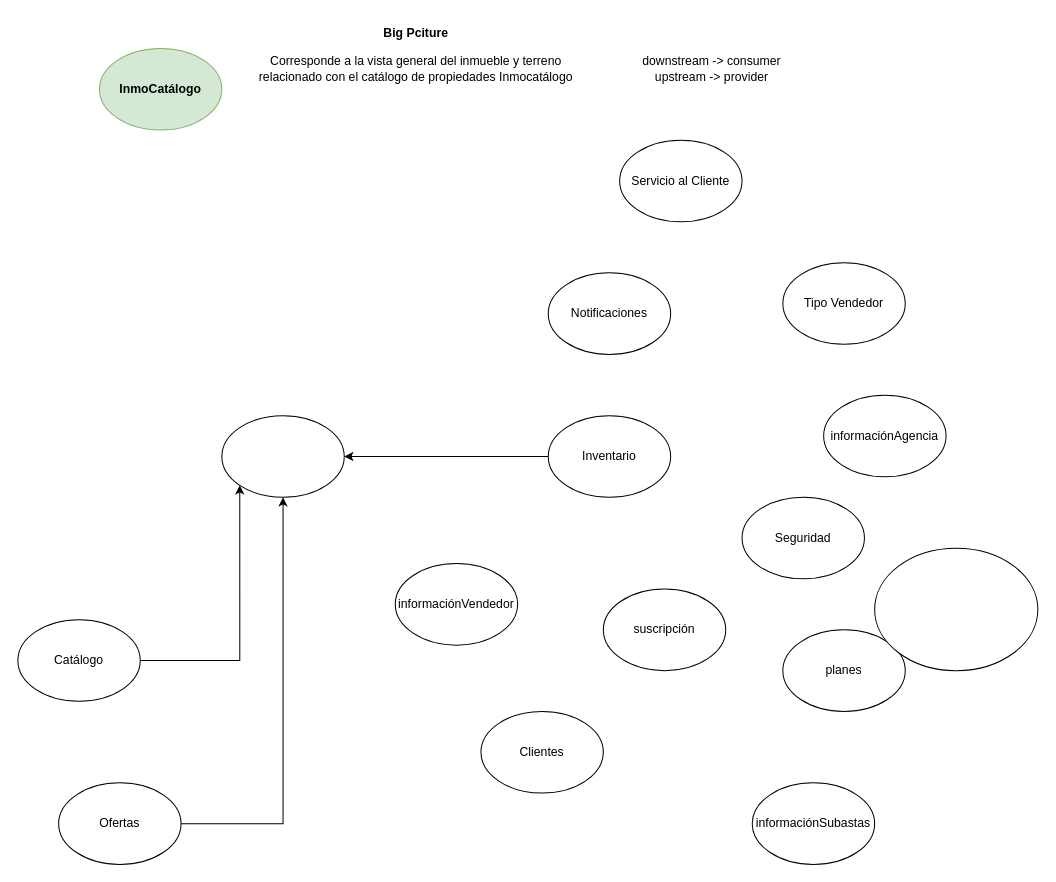
Some shapes in this 1056 by 882 pixel diagram are drawn without their labels. The centre of each missing label's shape, as x and y in pixels:
"informaciónInmmocatálogo" belongs at point (956, 609).
"inmuebles" belongs at point (282, 456).
